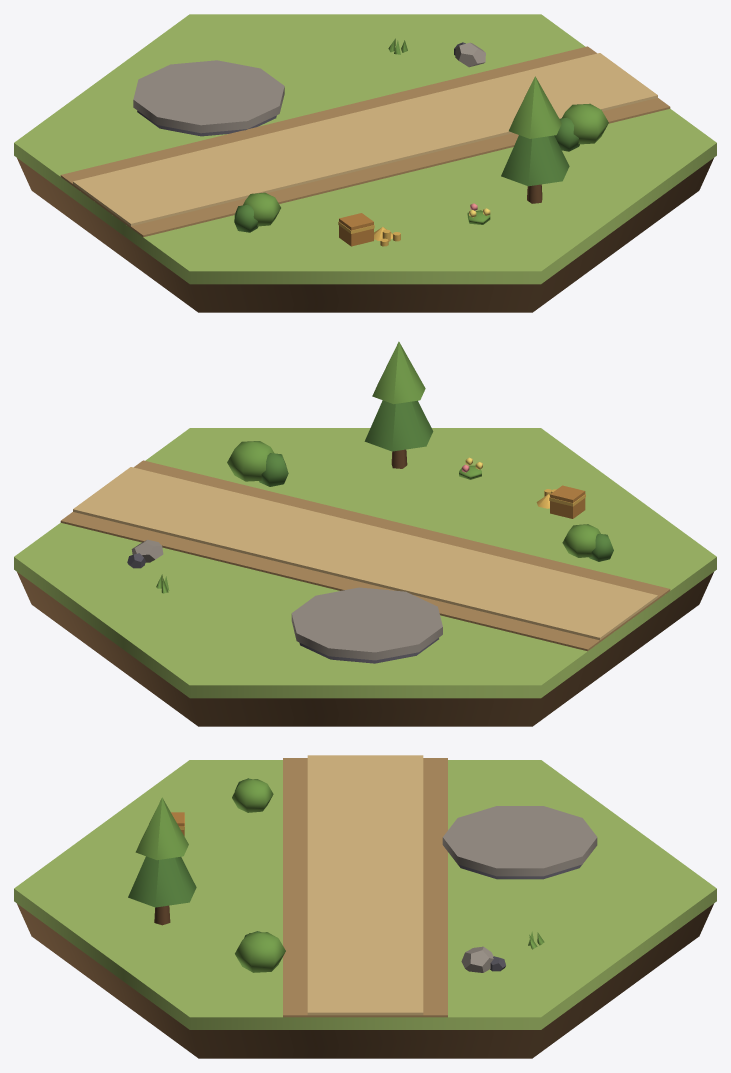
File: tile_goldRoad.glb
3 renders of one model, top to bottom at view 1: azimuth 30°, elevation 25°; view 2: azimuth 150°, elevation 25°; view 3: azimuth 270°, elevation 25°, orthographic.
Visible parts, largest first — view 1: ground, road, ground_soil, tower_slot_1_plate, road_surface_hub, deco_tree_3_crown, deco_tree_3_crown_b, deco_bush_0_a, road_verge_hub, income_crate_box, deco_bush_5_a, deco_stone_2_a (+2 smaller); view 2: ground, road, ground_soil, tower_slot_1_plate, road_surface_hub, deco_tree_3_crown, deco_tree_3_crown_b, road_verge_hub, deco_bush_0_a, deco_bush_5_a, income_crate_box, deco_bush_0_b; view 3: ground, road, ground_soil, tower_slot_1_plate, deco_tree_3_crown, deco_tree_3_crown_b, deco_bush_0_a, road_surface_hub, road_verge_hub, deco_bush_5_a, deco_stone_2_a.
Part boxes in pixels (left/top/right/bottom): ground: left=14, top=14, right=716, bottom=284; road: left=60, top=46, right=670, bottom=237; ground_soil: left=17, top=158, right=713, bottom=312; tower_slot_1_plate: left=133, top=60, right=284, bottom=133; road_surface_hub: left=310, top=114, right=422, bottom=162; deco_tree_3_crown: left=501, top=135, right=569, bottom=186; deco_tree_3_crown_b: left=509, top=76, right=561, bottom=138; deco_bush_0_a: left=562, top=103, right=608, bottom=144; road_verge_hub: left=297, top=109, right=434, bottom=175; income_crate_box: left=339, top=213, right=373, bottom=246; deco_bush_5_a: left=243, top=192, right=280, bottom=226; deco_stone_2_a: left=455, top=42, right=485, bottom=67; ground: left=14, top=428, right=716, bottom=698; road: left=60, top=460, right=670, bottom=651; ground_soil: left=17, top=572, right=713, bottom=726; tower_slot_1_plate: left=291, top=587, right=442, bottom=660; road_surface_hub: left=308, top=528, right=419, bottom=576; deco_tree_3_crown: left=364, top=400, right=433, bottom=451; deco_tree_3_crown_b: left=372, top=341, right=425, bottom=404; road_verge_hub: left=286, top=520, right=440, bottom=588; deco_bush_0_a: left=227, top=441, right=273, bottom=481; deco_bush_5_a: left=562, top=524, right=600, bottom=557; income_crate_box: left=550, top=485, right=585, bottom=518; deco_bush_0_b: left=259, top=453, right=288, bottom=486; ground: left=14, top=760, right=716, bottom=1029; road: left=283, top=755, right=447, bottom=1017; ground_soil: left=17, top=904, right=713, bottom=1058; tower_slot_1_plate: left=442, top=806, right=597, bottom=876; deco_tree_3_crown: left=128, top=856, right=196, bottom=907; deco_tree_3_crown_b: left=135, top=797, right=188, bottom=860; deco_bush_0_a: left=235, top=932, right=285, bottom=972; road_surface_hub: left=308, top=859, right=422, bottom=908; road_verge_hub: left=283, top=866, right=447, bottom=911; deco_bush_5_a: left=232, top=779, right=273, bottom=812; deco_stone_2_a: left=461, top=946, right=493, bottom=972.
Size of the model in its own units: 1.73 by 0.5412 by 2.
